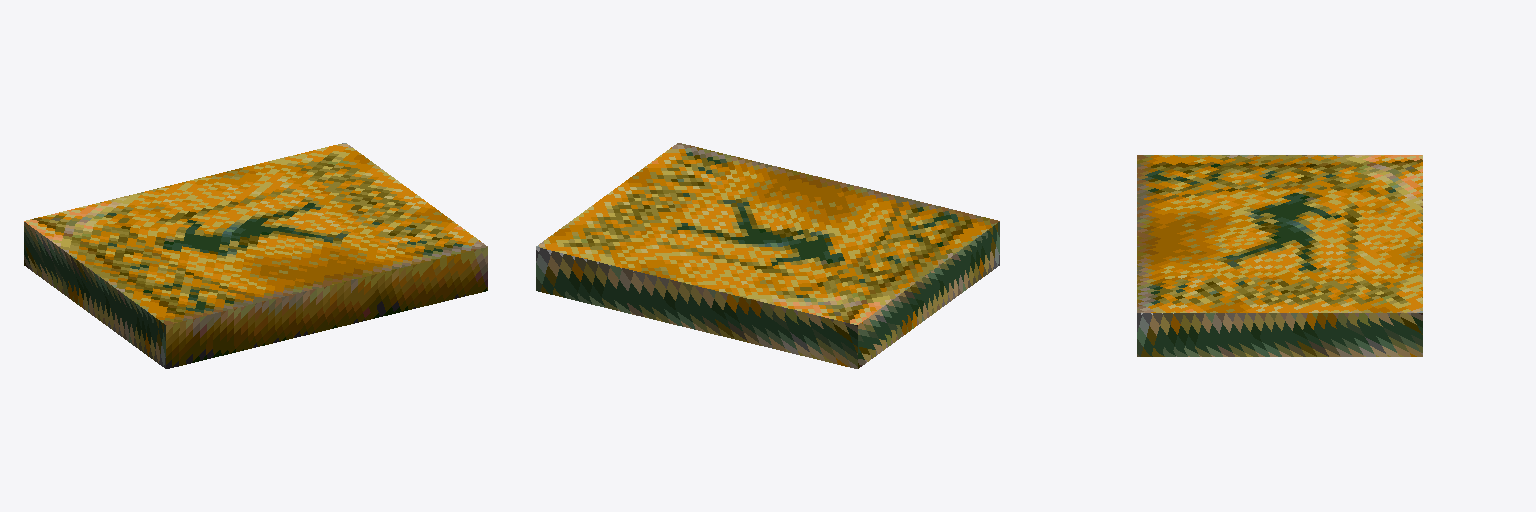
The picture shows the model from 3 angles: view 1: azimuth 30°, elevation 25°; view 2: azimuth 150°, elevation 25°; view 3: azimuth 270°, elevation 25°; orthographic projection.
Parts seen in each view (by area): view 1: cube1; view 2: cube1; view 3: cube1.
Boxes of the visible parts, box(x1,y1,x2,y2) form: cube1: box(24, 143, 487, 368); cube1: box(536, 143, 999, 368); cube1: box(1137, 155, 1422, 356).
Bounding box in the file's own units: 2 × 0.2617 × 1.53.
1 materials, 1 textured.